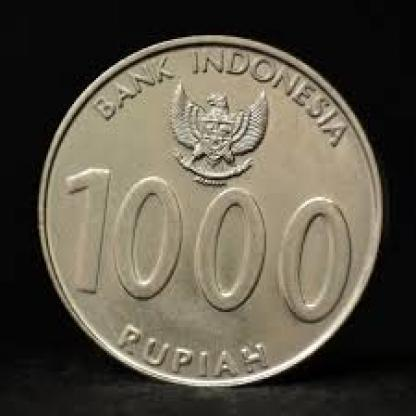coin_1000_e2010: (33, 30, 386, 390)
